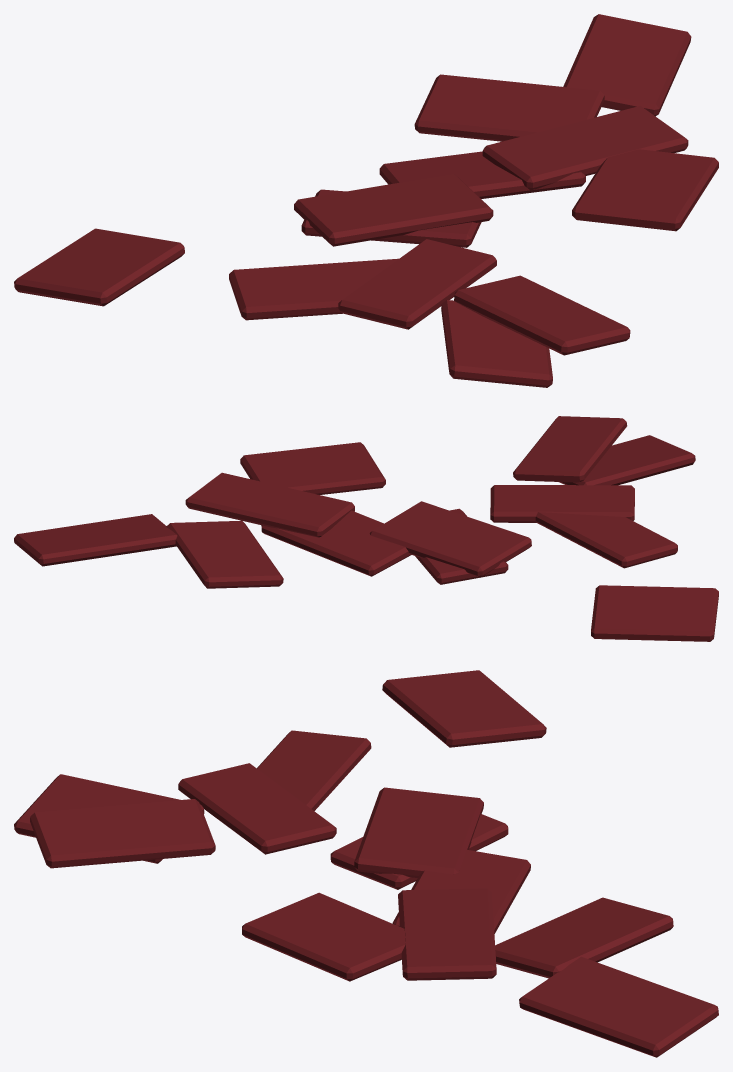
Rendered from DeadLeaves.fbx.
3 views of the same model, one above another, from view 1: azimuth 30°, elevation 25°; view 2: azimuth 150°, elevation 25°; view 3: azimuth 270°, elevation 25° (orthographic). The views are drawn at different scales.
Parts seen in each view (by area): view 1: Leaf; view 2: Leaf; view 3: Leaf.
Part boxes in pixels (left/top/right/bottom): Leaf: left=14, top=14, right=718, bottom=387; Leaf: left=14, top=416, right=718, bottom=641; Leaf: left=14, top=670, right=718, bottom=1057.
Size of the model in its own units: 2.94 by 0.1261 by 2.34.
